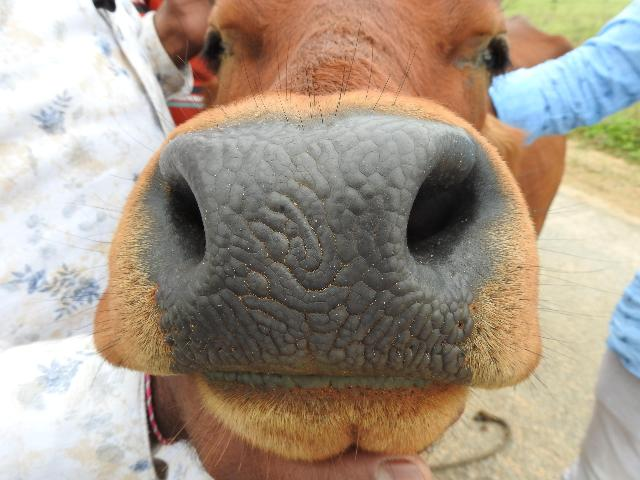Muzzle: (183, 131, 417, 379)
